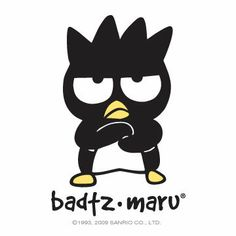batsumaru: (62, 15, 173, 188)
